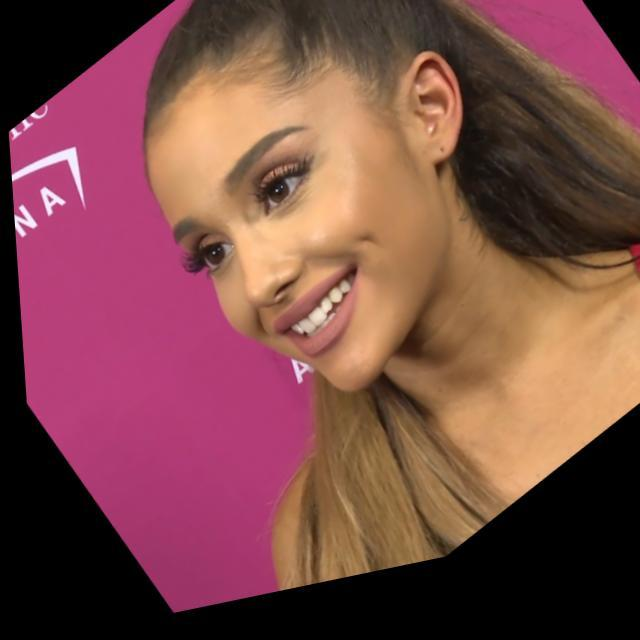Nonhelmet: (137, 0, 478, 407)
